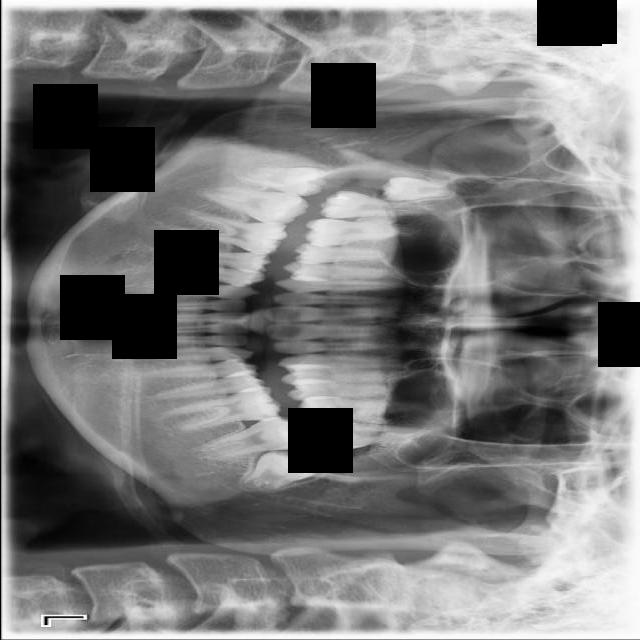3M ESPE Implant: (379, 176, 457, 204)
73: (44, 603, 56, 609)
BioHorizons Implant: (314, 418, 433, 451)
Biomet 3i Implant: (234, 436, 321, 501)
Blue Sky Bio Implant: (195, 412, 308, 462)
Caries: (317, 190, 438, 221)
Implant: (199, 183, 311, 229)
Keystone Dental Implant: (236, 166, 328, 197)
